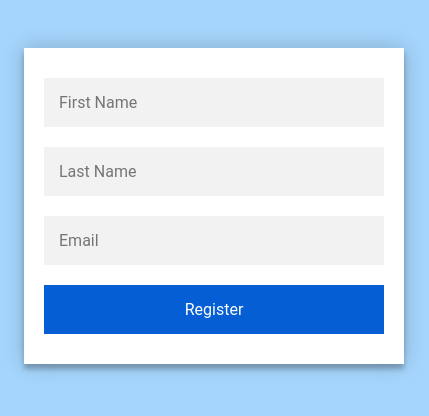
Test: Cypress › successfully submit the registration form
The width and height of the screenshot is (429, 416).
Type "Harsha" into the field with id "first-name" at [214, 103], box [44,78,384,127]
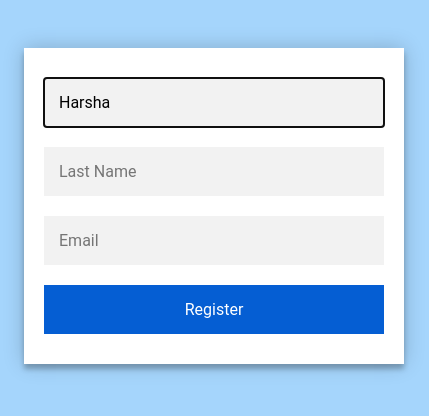
Type "Liyanage" into the field with id "last-name" at [214, 172], box [44,147,384,196]
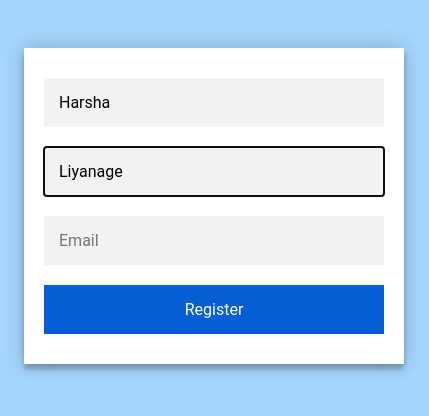
Type "demo@t.com" into the field with id "email" at [214, 241], box [44,216,384,265]
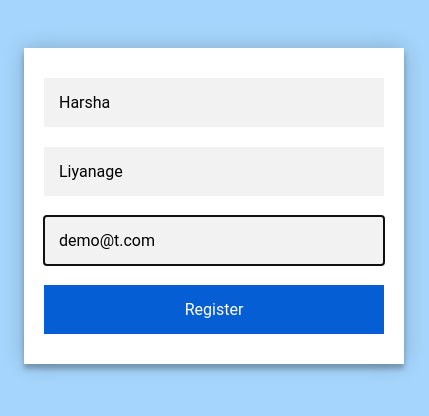
Click the button with class "form-field" showing "Register" at [214, 310], box [44,285,384,334]
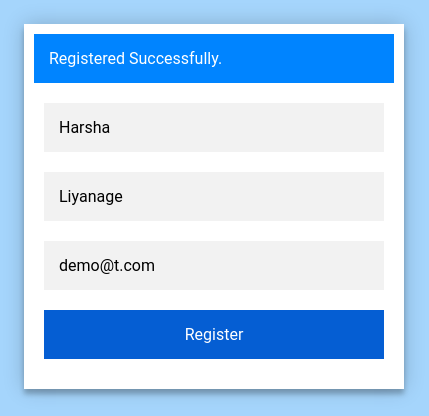
Now the text "Registered Successfully." is shown, box [34,34,394,82]
